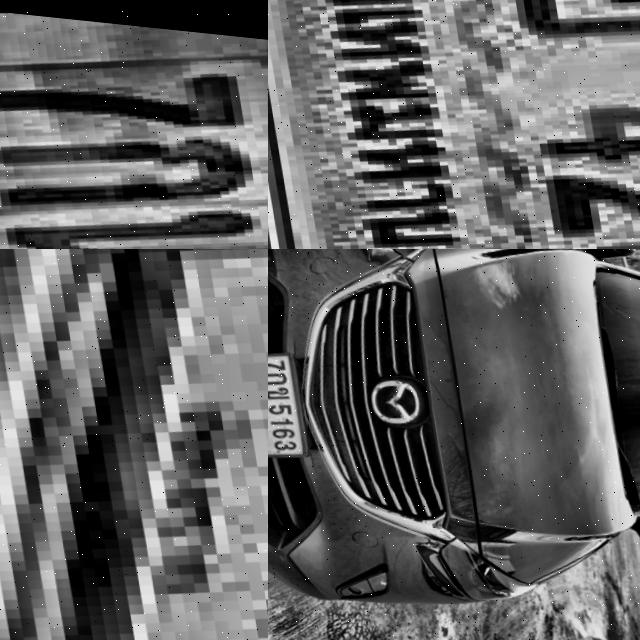license-plate: (8, 249, 268, 640), (268, 0, 640, 249), (0, 0, 268, 249), (268, 336, 315, 472)
